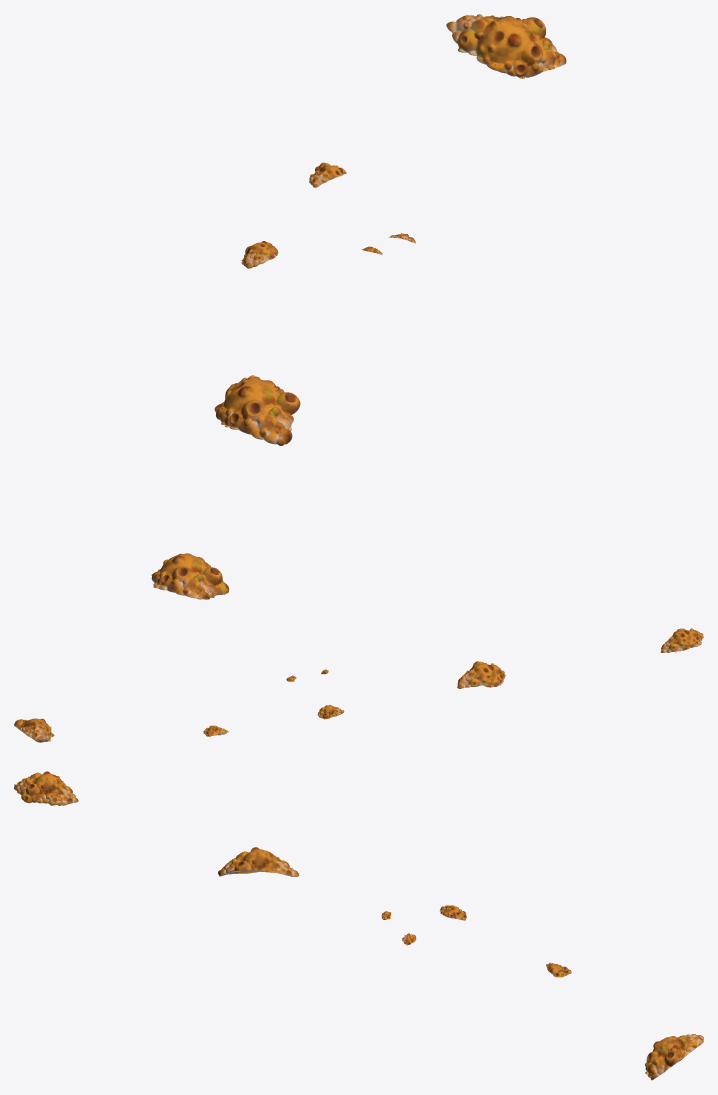
The model's file is FAT.glb.
3 renders of one model, top to bottom at view 1: azimuth 30°, elevation 25°; view 2: azimuth 150°, elevation 25°; view 3: azimuth 270°, elevation 25°, orthographic. The views are drawn at different scales.
Visible parts, largest first — view 1: FAT; view 2: FAT; view 3: FAT.
Boxes of the visible parts, x1,y1,x2,y2 form: FAT: (151,14,566,599); FAT: (14,628,703,742); FAT: (14,771,703,1080).
Bounding box in the file's own units: 1015 × 76.32 × 1067.
